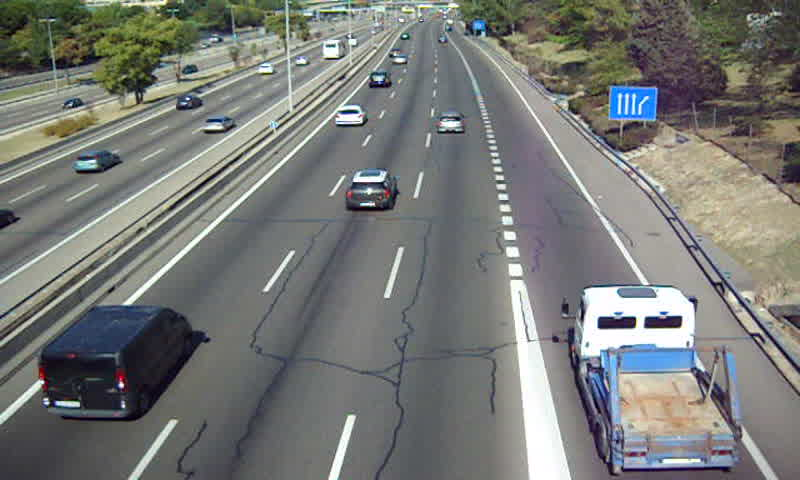car: (345, 168, 398, 210), (332, 106, 366, 127), (436, 110, 464, 133), (366, 72, 391, 90), (390, 54, 408, 68)
small-truck: (573, 286, 740, 473)
van: (37, 305, 193, 420)
